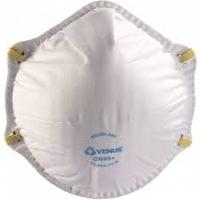flu mask: (5, 1, 195, 196)
